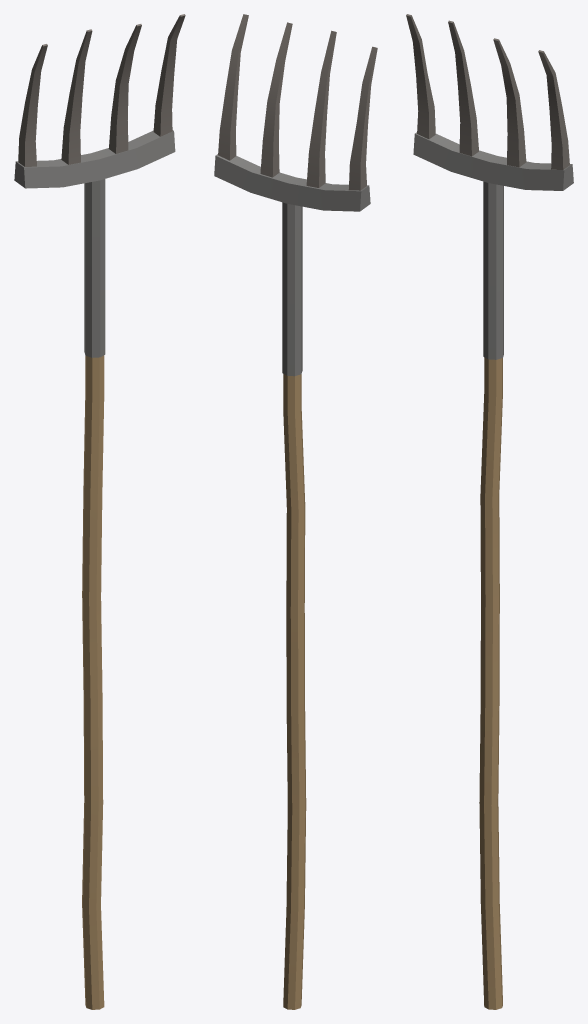
The model's file is atoll_Pitchfork.fbx.
3 views of the same model, side by side, from view 1: azimuth 30°, elevation 25°; view 2: azimuth 150°, elevation 25°; view 3: azimuth 330°, elevation 25° (orthographic). The views are drawn at different scales.
Parts seen in each view (by area): view 1: Handle, Bar, Metal_Connector, Spike4, Spike1, Spike3, Spike2; view 2: Handle, Bar, Metal_Connector, Spike4, Spike1, Spike3, Spike2; view 3: Handle, Bar, Metal_Connector, Spike4, Spike1, Spike3, Spike2.
Boxes of the visible parts, box(x1,y1,x2,y2) form: Handle: box(82, 355, 104, 1009); Bar: box(14, 130, 175, 188); Metal_Connector: box(84, 179, 105, 357); Spike4: box(61, 29, 92, 164); Spike1: box(109, 24, 141, 153); Spike3: box(153, 14, 185, 136); Spike2: box(18, 44, 47, 166); Handle: box(283, 374, 306, 1009); Bar: box(214, 154, 370, 211); Metal_Connector: box(282, 202, 302, 376); Spike4: box(306, 30, 336, 187); Spike1: box(260, 22, 292, 177); Spike3: box(218, 14, 248, 160); Spike2: box(348, 46, 377, 190); Handle: box(479, 357, 502, 1009); Bar: box(413, 132, 573, 190); Metal_Connector: box(483, 181, 503, 359); Spike4: box(448, 20, 478, 156); Spike1: box(493, 38, 526, 167); Spike3: box(538, 50, 569, 169); Spike2: box(406, 14, 435, 139).
Bounding box in the file's own units: 44.2 × 280 × 13.67.
